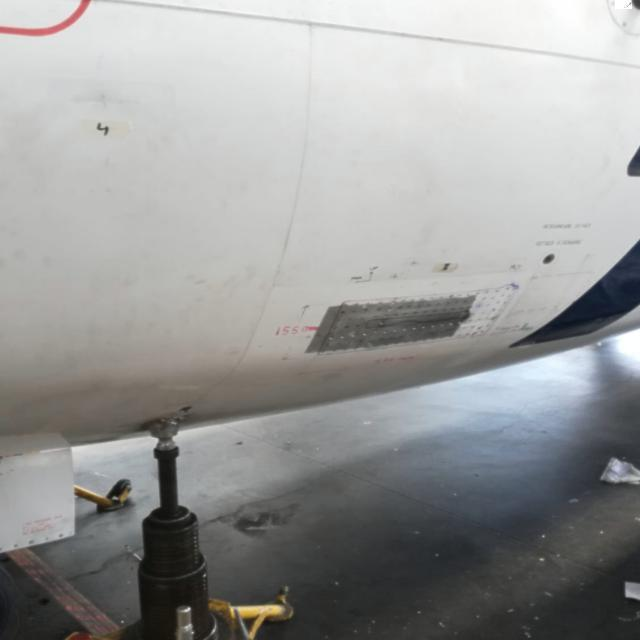crack: (616, 1, 633, 10)
